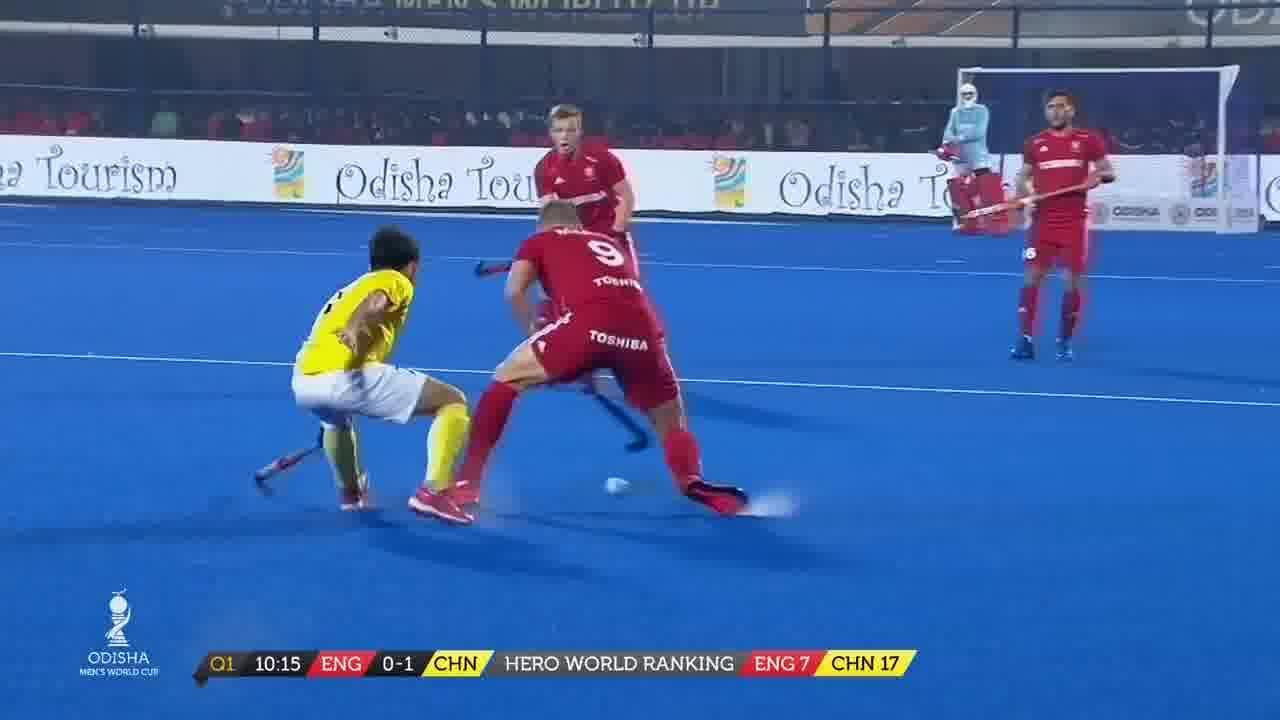ball: (606, 460, 638, 509)
